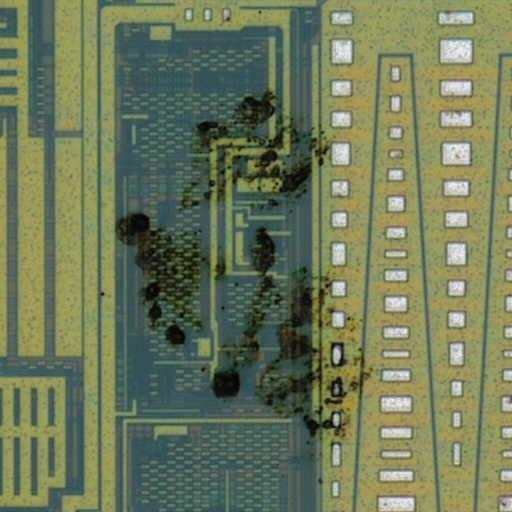PO CONTAMINATION: (109, 86, 377, 489)
